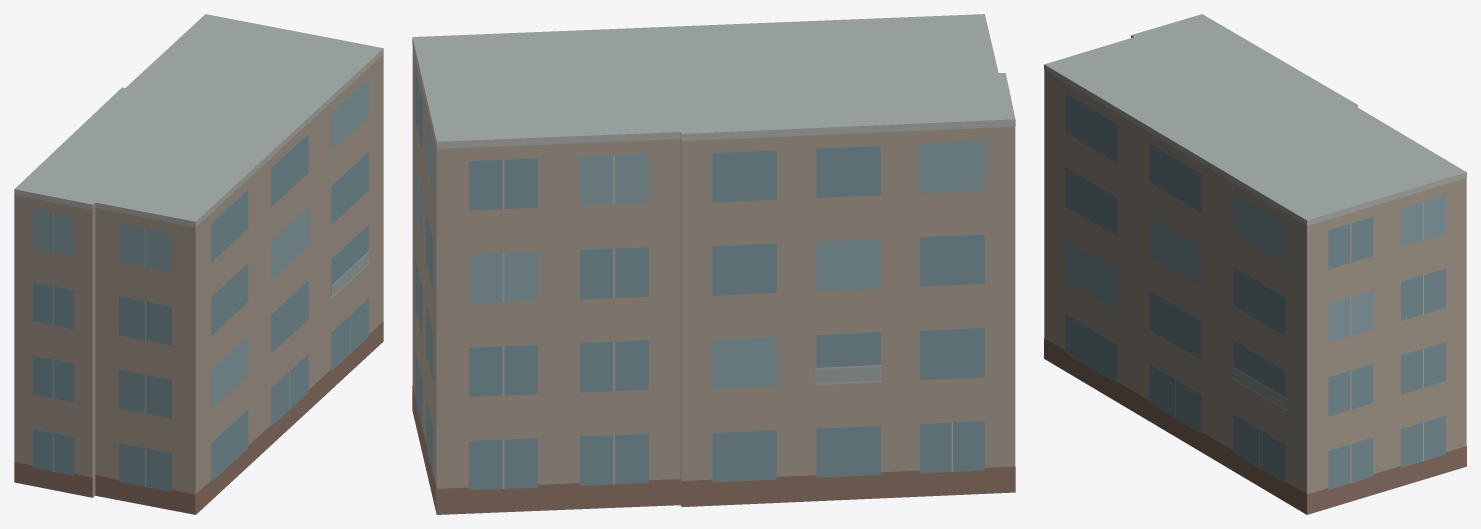
File: survey-upis-32993163.glb
The picture shows the model from 3 angles, left to right: view 1: azimuth 30°, elevation 25°; view 2: azimuth 150°, elevation 25°; view 3: azimuth 270°, elevation 25°; orthographic projection. The views are drawn at different scales.
Parts seen in each view (by area): view 1: survey-upis-32993163.tmp; view 2: survey-upis-32993163.tmp; view 3: survey-upis-32993163.tmp.
Part boxes in pixels (x1,y1,x2,y2): survey-upis-32993163.tmp: (14,14,383,514); survey-upis-32993163.tmp: (412,14,1015,514); survey-upis-32993163.tmp: (1044,14,1466,514).
Size of the model in its own units: 19.2 by 12.75 by 16.6.
